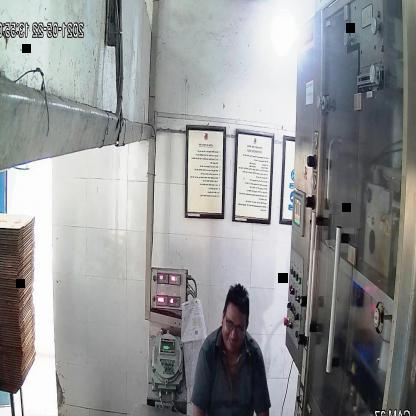goggles: (220, 310, 249, 338)
